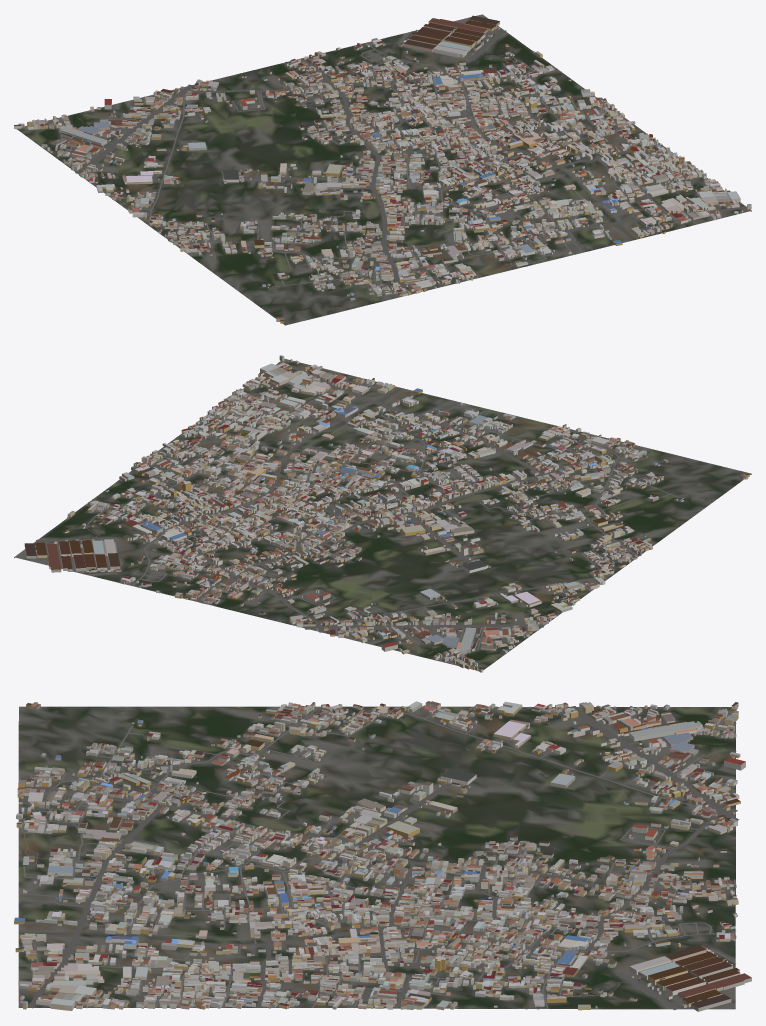
3 views of the same model, one above another, from view 1: azimuth 30°, elevation 25°; view 2: azimuth 150°, elevation 25°; view 3: azimuth 270°, elevation 25° (orthographic). The views are drawn at different scales.
Visible parts, largest first — view 1: ground, buildings, roads; view 2: ground, buildings, roads; view 3: ground, buildings, roads.
Part boxes in pixels (bbox=[...]): ground: bbox=[16, 14, 751, 325]; buildings: bbox=[14, 15, 751, 323]; roads: bbox=[25, 30, 746, 296]; ground: bbox=[14, 358, 751, 670]; buildings: bbox=[24, 355, 749, 672]; roads: bbox=[36, 361, 679, 669]; ground: bbox=[18, 706, 735, 1009]; buildings: bbox=[14, 701, 751, 1011]; roads: bbox=[18, 706, 739, 1010].
Bounding box in the file's own units: 1425 × 27.78 × 1441.
